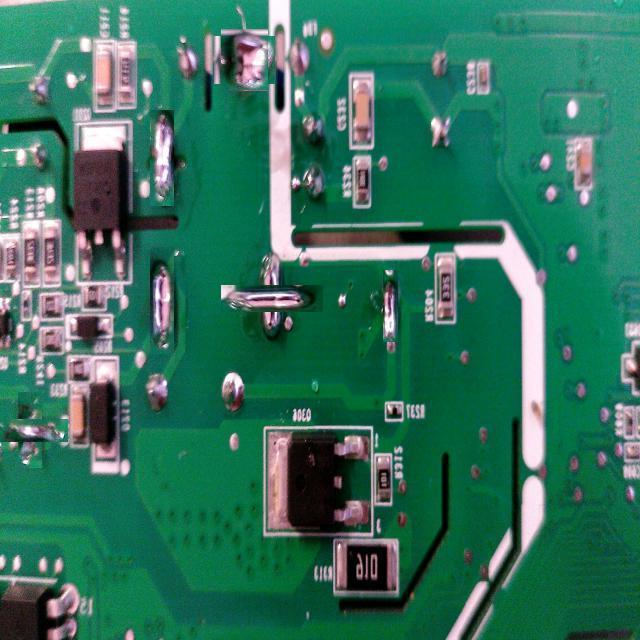Short_circuit: (240, 266, 304, 330), (217, 32, 272, 88), (150, 248, 174, 356), (5, 405, 55, 455), (150, 110, 174, 206), (384, 270, 399, 342)
